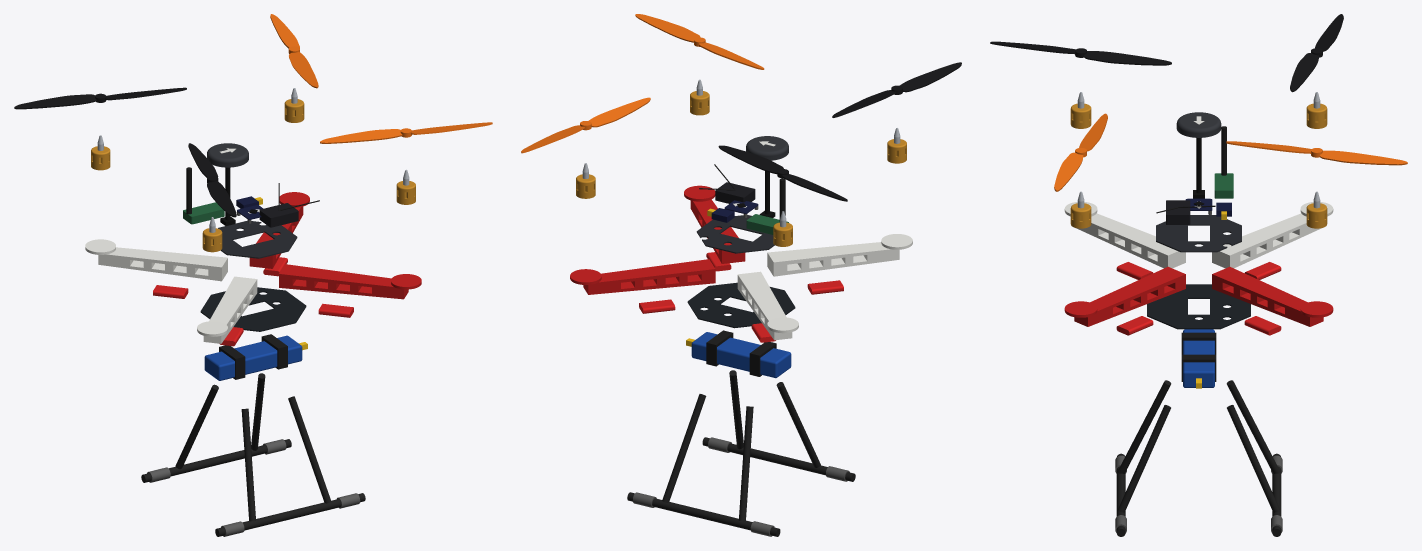
The model's file is navi_f450_exploded.glb.
The picture shows the model from 3 angles, left to right: view 1: azimuth 30°, elevation 25°; view 2: azimuth 150°, elevation 25°; view 3: azimuth 270°, elevation 25°; orthographic projection. The views are drawn at different scales.
Parts seen in each view (by area): view 1: arm_135, arm_315, bottom_plate_PDB, battery_3S_3300mAh, arm_225, top_plate, prop_1045_135, prop_1045_315, prop_1045_45, prop_1045_225, gear_skid_-1, arm_45 (+8 smaller); view 2: arm_225, arm_45, bottom_plate_PDB, battery_3S_3300mAh, arm_135, top_plate, arm_315, prop_1045_45, prop_1045_225, prop_1045_135, prop_1045_315, gear_skid_1 (+7 smaller); view 3: bottom_plate_PDB, arm_45, arm_315, arm_135, arm_225, top_plate, prop_1045_45, prop_1045_225, battery_3S_3300mAh, prop_1045_135, prop_1045_315, gps_M8N_compass (+10 smaller).
Boxes of the visible parts, <box> form: arm_135: <box>85,239,227,281</box>; arm_315: <box>279,264,421,299</box>; bottom_plate_PDB: <box>200,287,306,331</box>; battery_3S_3300mAh: <box>204,335,302,380</box>; arm_225: <box>197,276,257,343</box>; top_plate: <box>218,220,297,258</box>; prop_1045_135: <box>14,87,186,109</box>; prop_1045_315: <box>320,122,492,143</box>; prop_1045_45: <box>270,14,318,88</box>; prop_1045_225: <box>188,143,236,217</box>; gear_skid_-1: <box>215,493,365,536</box>; arm_45: <box>249,192,309,268</box>; arm_225: <box>767,234,912,276</box>; arm_45: <box>570,259,715,294</box>; bottom_plate_PDB: <box>687,282,795,328</box>; battery_3S_3300mAh: <box>691,332,791,378</box>; arm_135: <box>737,271,798,340</box>; top_plate: <box>696,215,774,253</box>; arm_315: <box>684,185,745,263</box>; prop_1045_45: <box>521,97,650,153</box>; prop_1045_225: <box>832,62,961,117</box>; prop_1045_135: <box>718,145,847,201</box>; prop_1045_315: <box>635,14,764,69</box>; gear_skid_1: <box>627,492,780,536</box>; bottom_plate_PDB: <box>1147,284,1250,329</box>; arm_45: <box>1212,266,1333,326</box>; arm_315: <box>1064,266,1185,326</box>; arm_135: <box>1212,202,1333,268</box>; arm_225: <box>1064,202,1185,268</box>; top_plate: <box>1156,215,1241,252</box>; prop_1045_45: <box>1226,141,1407,165</box>; prop_1045_225: <box>990,41,1171,65</box>; battery_3S_3300mAh: <box>1183,329,1214,387</box>; prop_1045_135: <box>1290,14,1343,92</box>; prop_1045_315: <box>1054,113,1107,191</box>; gps_M8N_compass: <box>1176,112,1221,137</box>.
Size of the model in its own units: 564 by 596 by 564.
